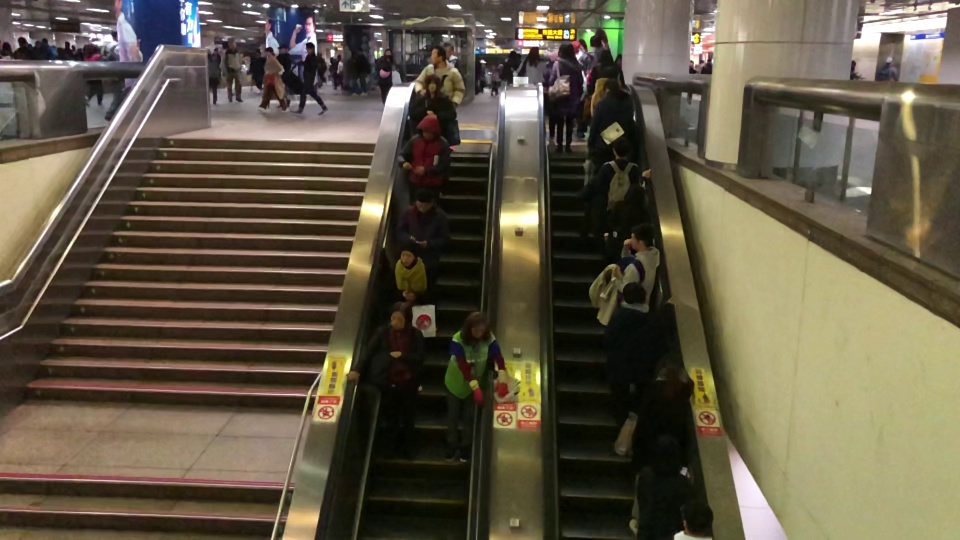person_head: (679, 494, 714, 535), (651, 432, 684, 474), (627, 219, 656, 252), (651, 351, 681, 382), (619, 280, 649, 305), (388, 300, 413, 329), (466, 309, 489, 337), (624, 182, 649, 207), (418, 113, 441, 139), (397, 239, 419, 266), (412, 187, 434, 211), (611, 136, 630, 158), (425, 73, 441, 93), (602, 78, 621, 93), (430, 45, 444, 64), (598, 46, 613, 63), (560, 41, 574, 57), (589, 34, 602, 50), (528, 45, 540, 59), (507, 49, 518, 63), (85, 43, 97, 55), (263, 45, 275, 56), (305, 41, 316, 53), (444, 42, 453, 56), (2, 41, 14, 51), (277, 44, 290, 53), (572, 40, 581, 53), (18, 36, 28, 47), (383, 47, 393, 58), (228, 38, 237, 48), (883, 56, 893, 65), (851, 60, 857, 72), (356, 48, 363, 55), (64, 41, 70, 48), (707, 55, 713, 62), (206, 47, 211, 54), (689, 59, 693, 66)
person_vbox: (346, 300, 426, 462), (626, 351, 695, 535), (601, 279, 678, 433), (442, 308, 510, 464), (394, 186, 453, 338), (389, 238, 434, 395), (634, 431, 694, 540), (408, 72, 457, 200), (413, 45, 466, 153), (591, 136, 655, 213), (397, 113, 451, 199), (587, 77, 637, 166), (612, 219, 661, 307), (548, 41, 583, 155), (604, 181, 651, 251), (289, 41, 330, 116), (588, 47, 626, 105), (256, 47, 288, 113), (220, 38, 244, 103), (83, 44, 106, 107), (277, 44, 303, 95), (378, 47, 400, 104), (516, 47, 549, 84), (352, 47, 373, 98), (204, 45, 221, 105), (578, 34, 602, 70), (443, 41, 465, 75), (498, 49, 519, 83), (876, 56, 898, 80), (13, 36, 33, 59), (687, 58, 695, 105), (700, 54, 714, 73), (850, 58, 862, 79), (1, 41, 13, 59), (61, 42, 73, 60)
